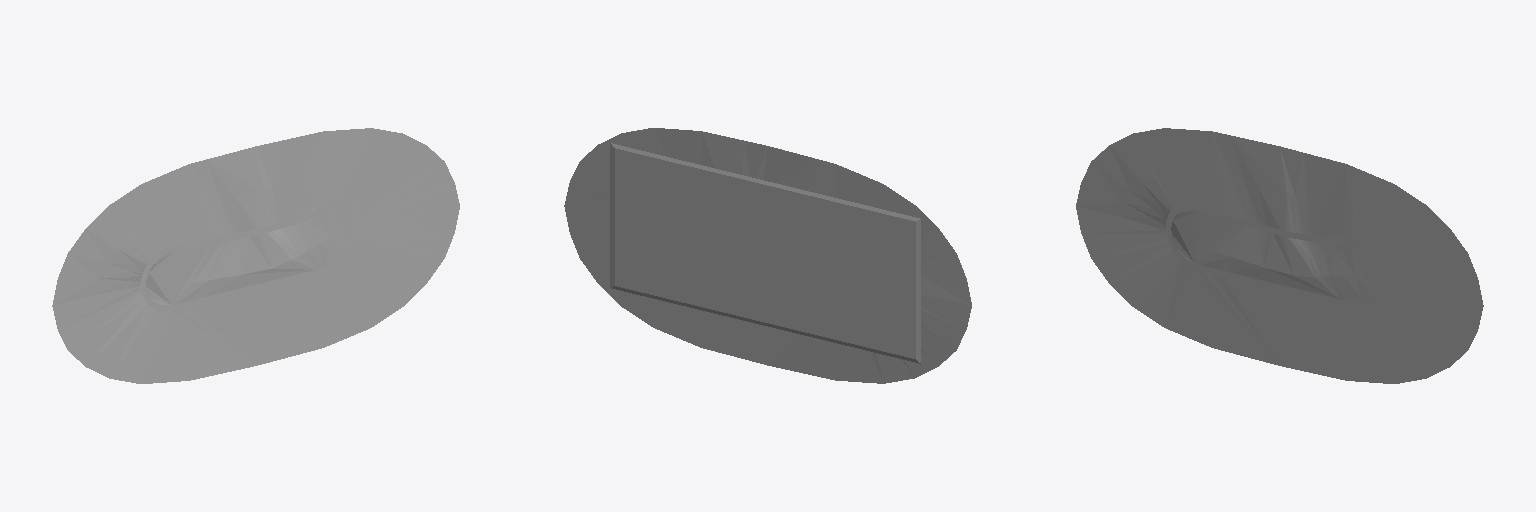
File: short_course.obj
3 views of the same model, side by side, from view 1: azimuth 30°, elevation 25°; view 2: azimuth 150°, elevation 25°; view 3: azimuth 330°, elevation 25° (orthographic).
Parts seen in each view (by area): view 1: default; view 2: default; view 3: default.
Part boxes in pixels (left/top/right/bottom): default: left=52, top=128, right=459, bottom=383; default: left=564, top=128, right=971, bottom=383; default: left=1076, top=128, right=1483, bottom=383.
Size of the model in its own units: 870 by 448 by 6.27.